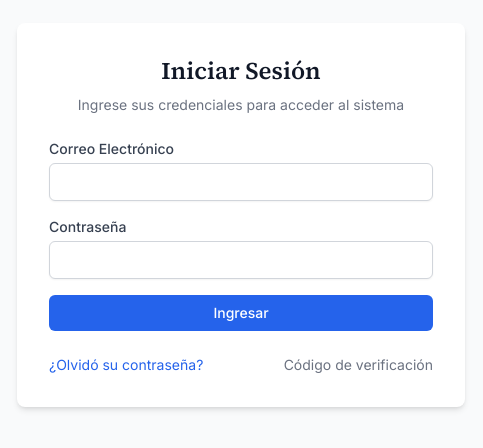
LoginPage › shows validation errors when submitting empty form
Click the button "Ingresar" at (241, 313), box [49,295,433,331]
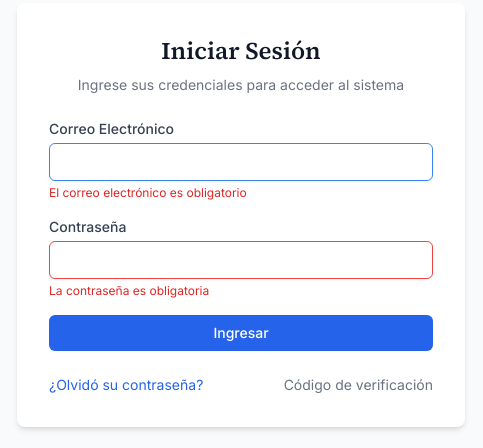
Now the text "El correo electrónico es obligatorio" is shown, box [49,185,247,200]
